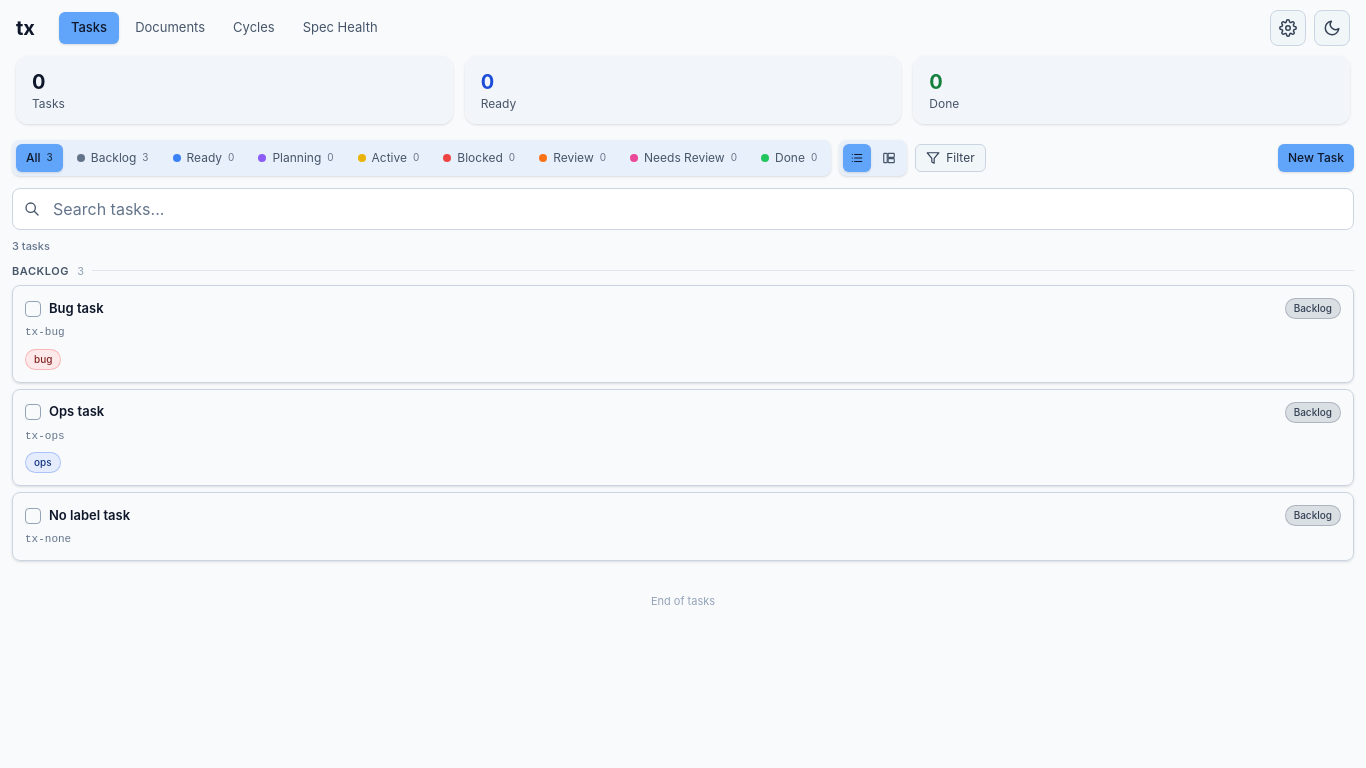
it: Tasks client filters › filters by labels and syncs taskLabels in URL
Check: the heading "Bug task" is shown, box [49,299,104,318]
Check: the heading "Ops task" is shown, box [49,402,104,422]
Click the button "Filter". click: (950, 158)
box: [915,144,986,172]
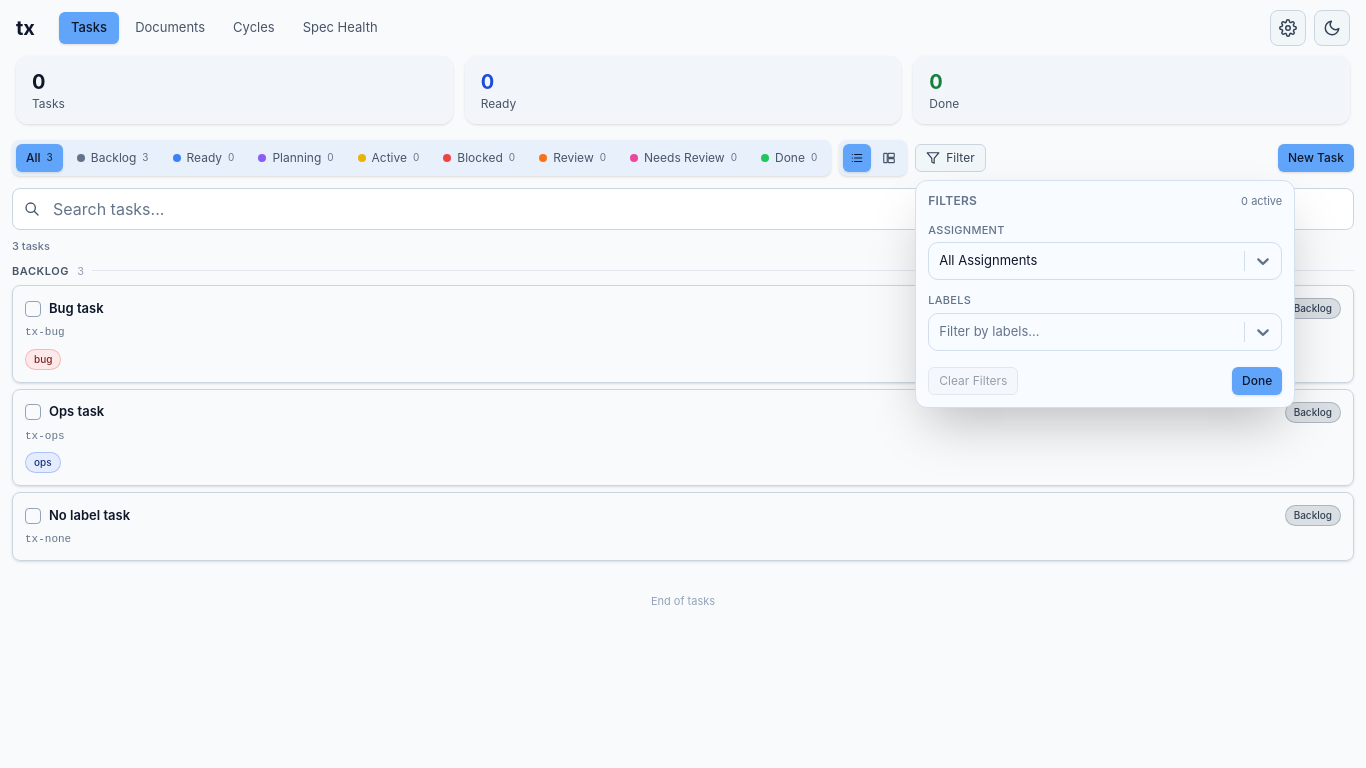
Focus the dropdown. click: (942, 332)
box: [939,320,944,344]
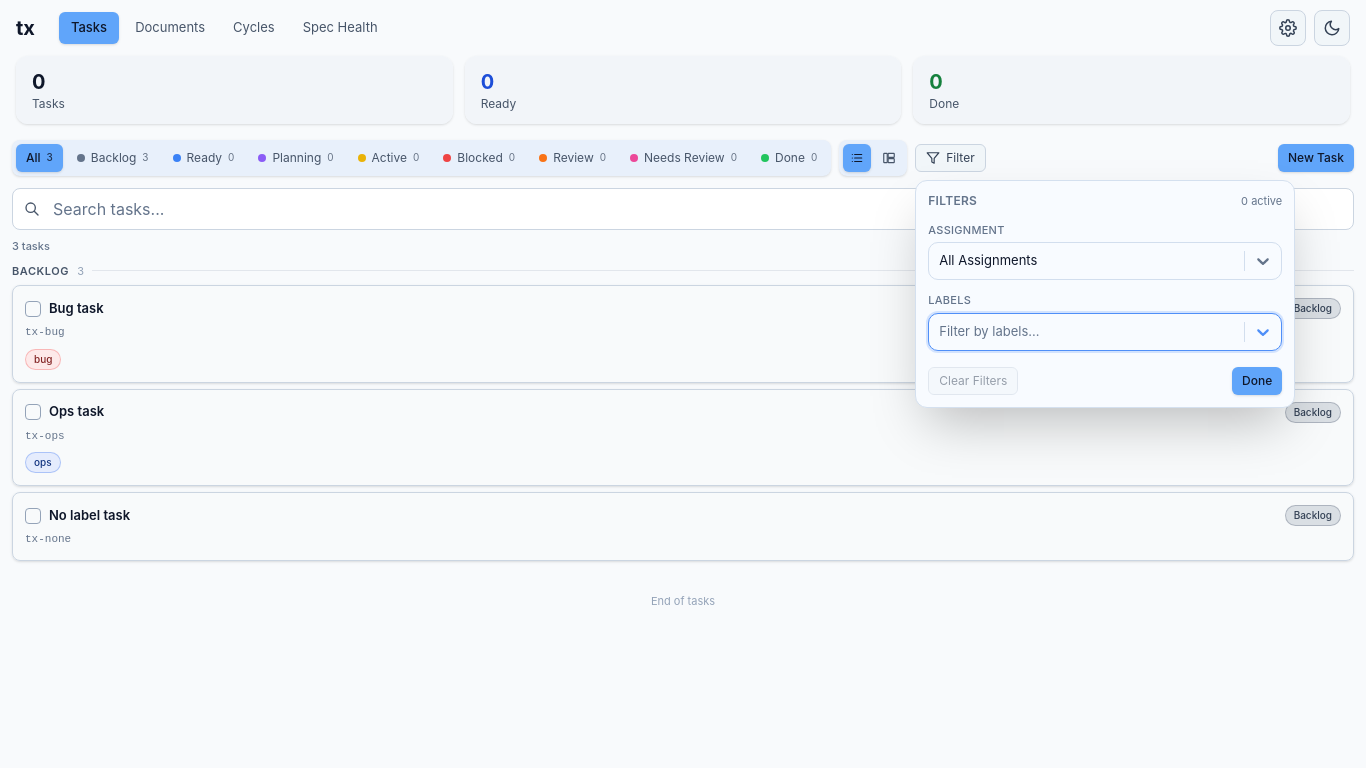
Press ArrowDown in the dropdown, box [939,320,944,344]
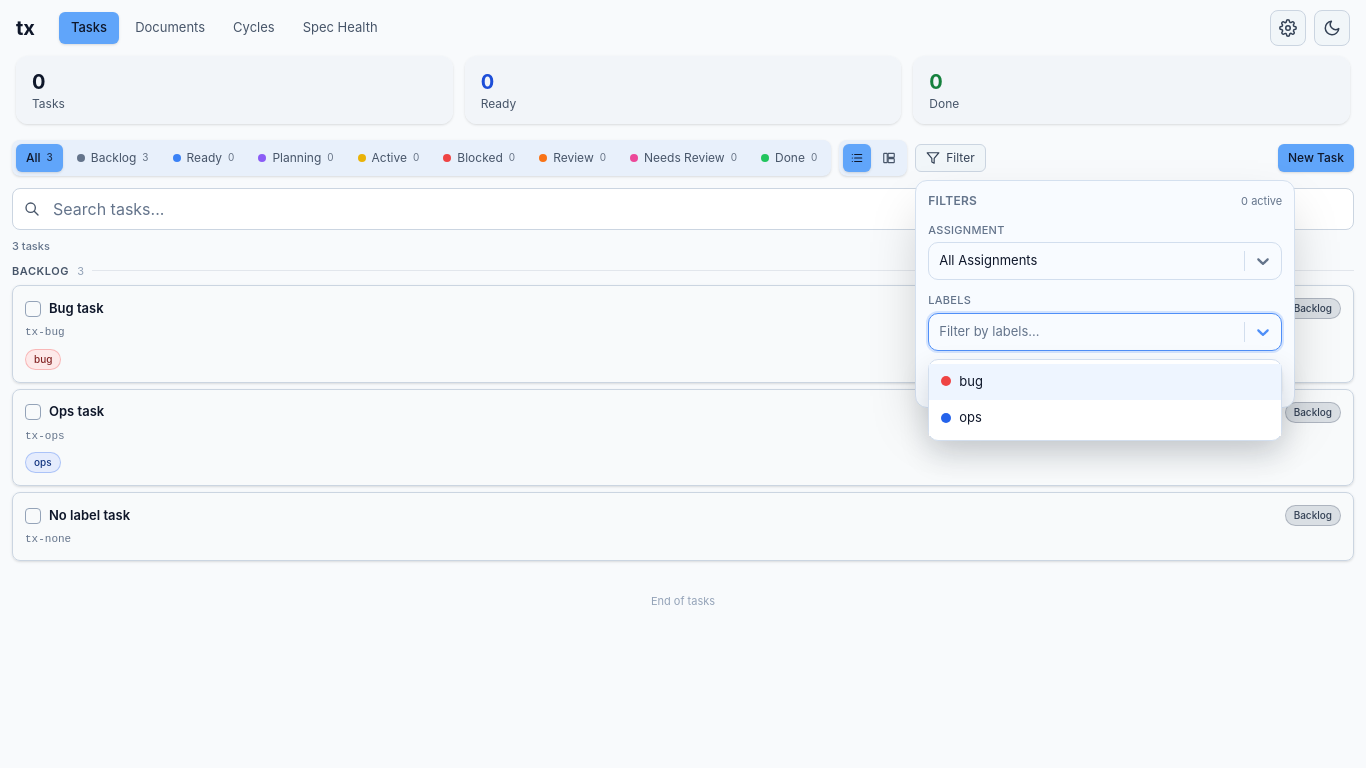
Click the option "bug". click: (946, 381)
box: [929,364,1281,400]
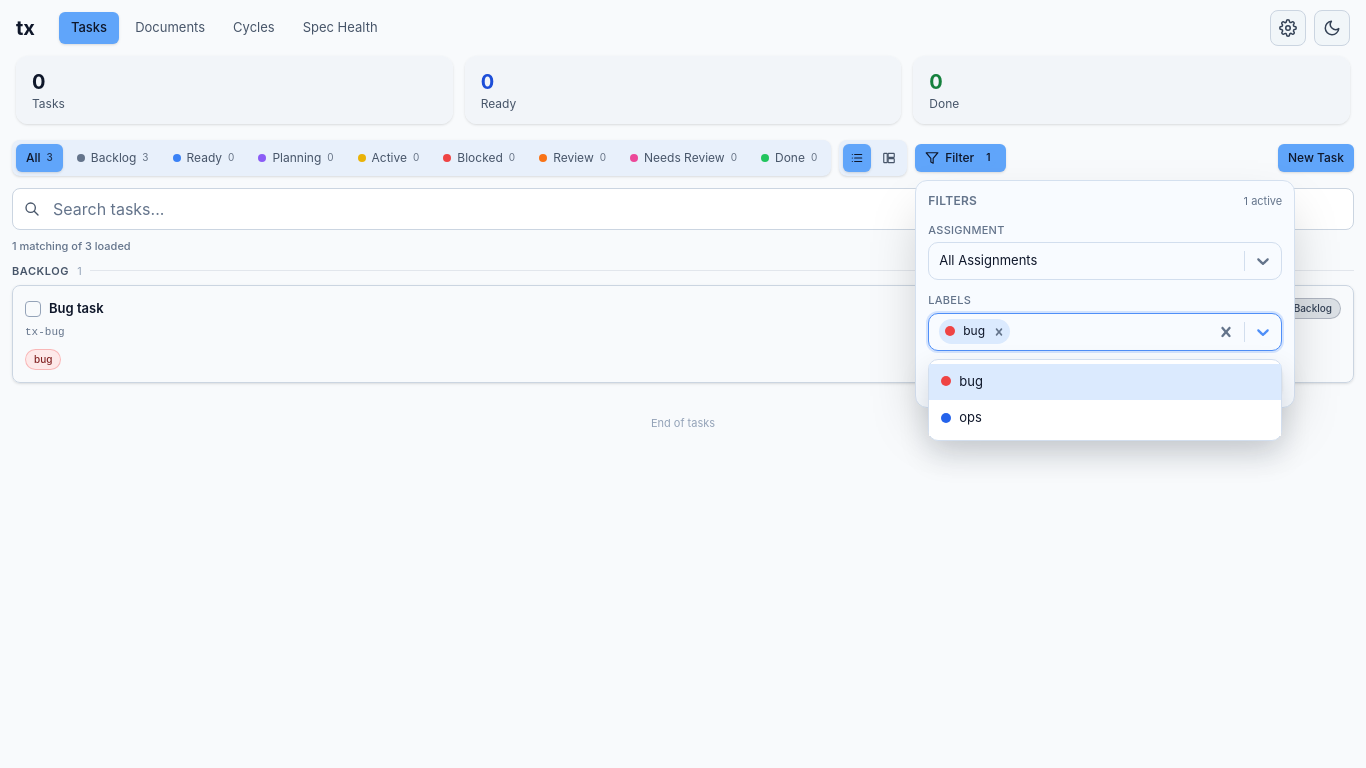
Check: the heading "Bug task" is shown, box [49,299,104,318]
Check: the button "Ops task" is gone
Check: the button "No label task" is gone
